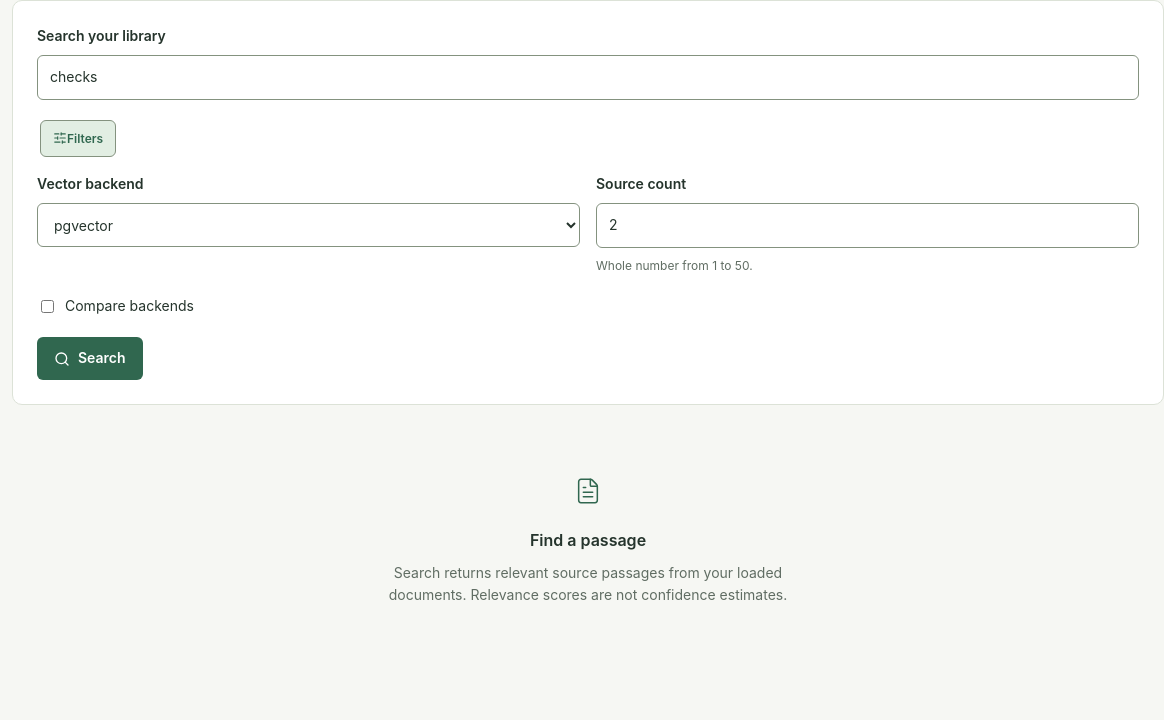
Test: Search › keeps a successful backend visible when its comparison partner fails
Click the checkbox labelled "Compare backends". click: (48,306)
box: left=41, top=300, right=54, bottom=313
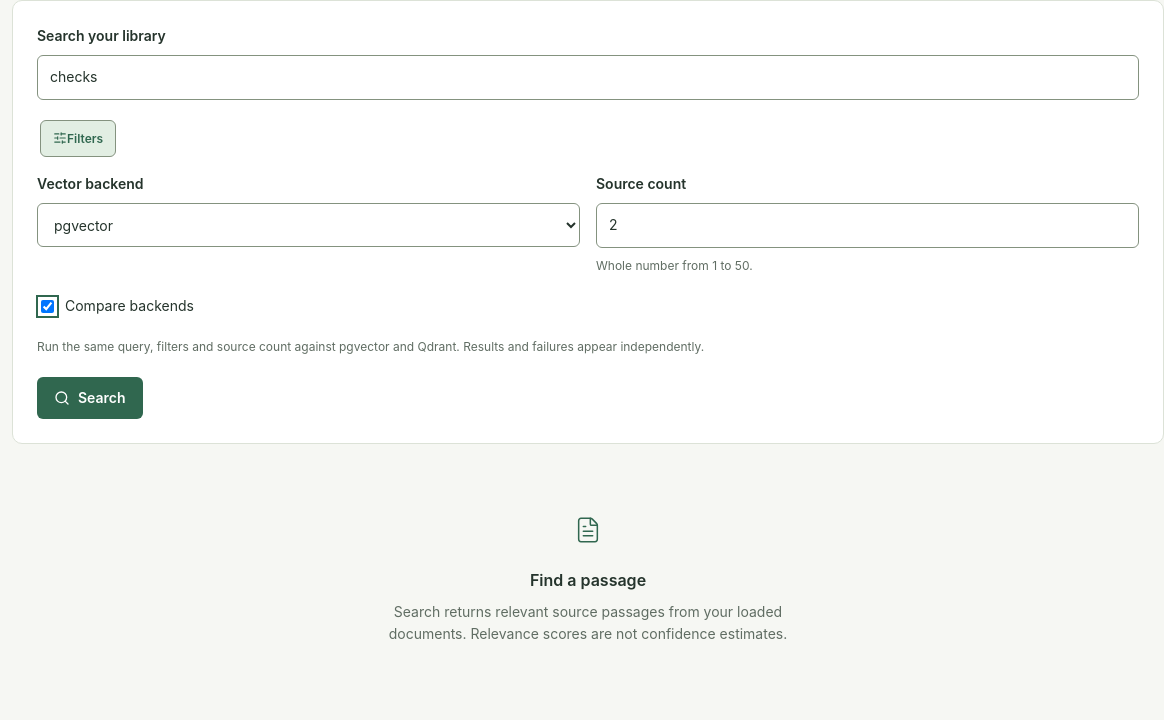
Submit the form labelled "Search your library", box left=37, top=25, right=1139, bottom=419
(page scrolled)
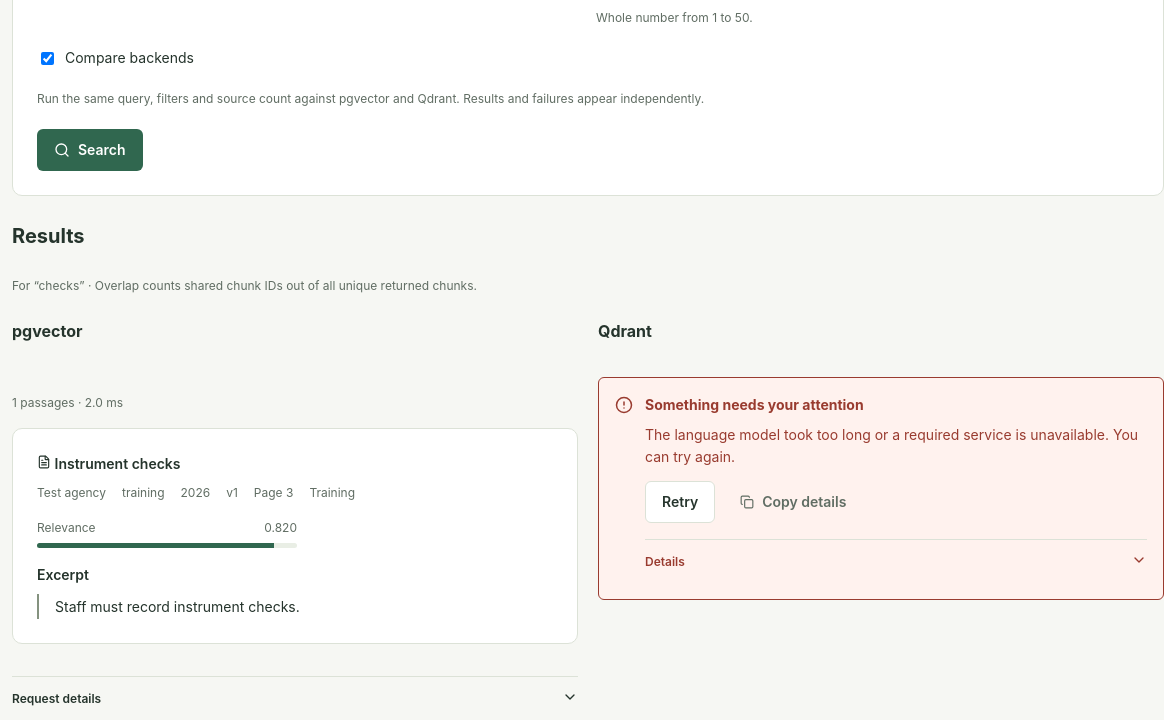
Now the message is shown, box left=598, top=377, right=1163, bottom=600
Now the heading "Instrument checks" is shown, box left=37, top=455, right=180, bottom=472
